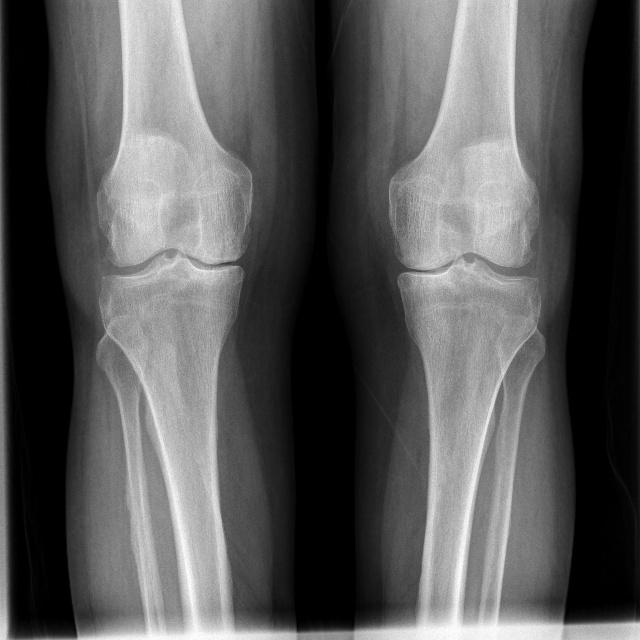Knee: (383, 187, 542, 331), (89, 183, 256, 319)
